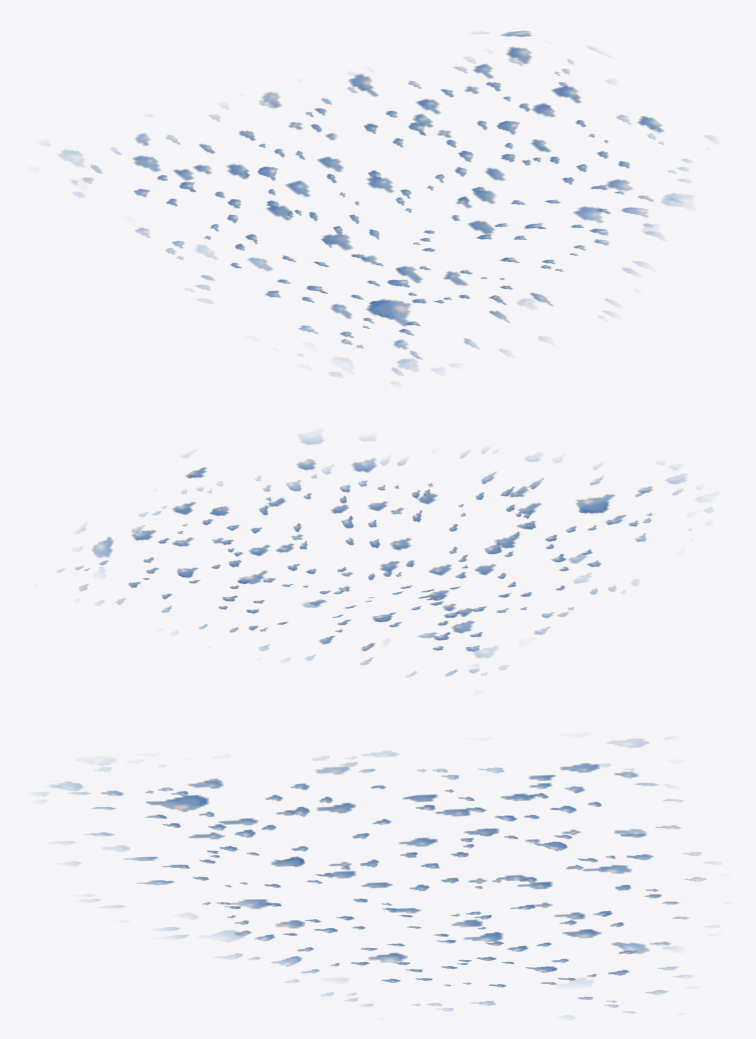
The picture shows the model from 3 angles, top to bottom: view 1: azimuth 30°, elevation 25°; view 2: azimuth 150°, elevation 25°; view 3: azimuth 270°, elevation 25°; orthographic projection. The views are drawn at different scales.
Visible parts, largest first — view 1: 26812; view 2: 26812; view 3: 26812.
Part boxes in pixels (x1,y1,x2,y2): 26812: (46,30,713,382); 26812: (57,432,713,676); 26812: (35,738,715,1017).
Bounding box in the file's own units: 1.63 × 0.2014 × 1.78.
1 material, 1 textured.
